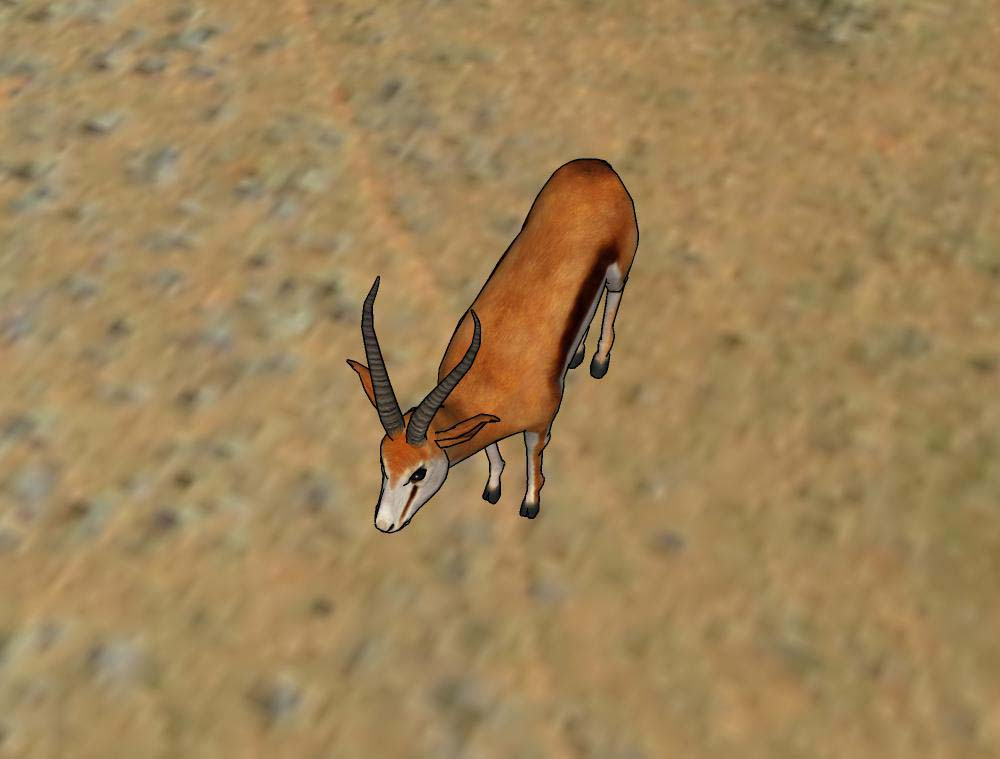springbok: (338, 145, 647, 536)
